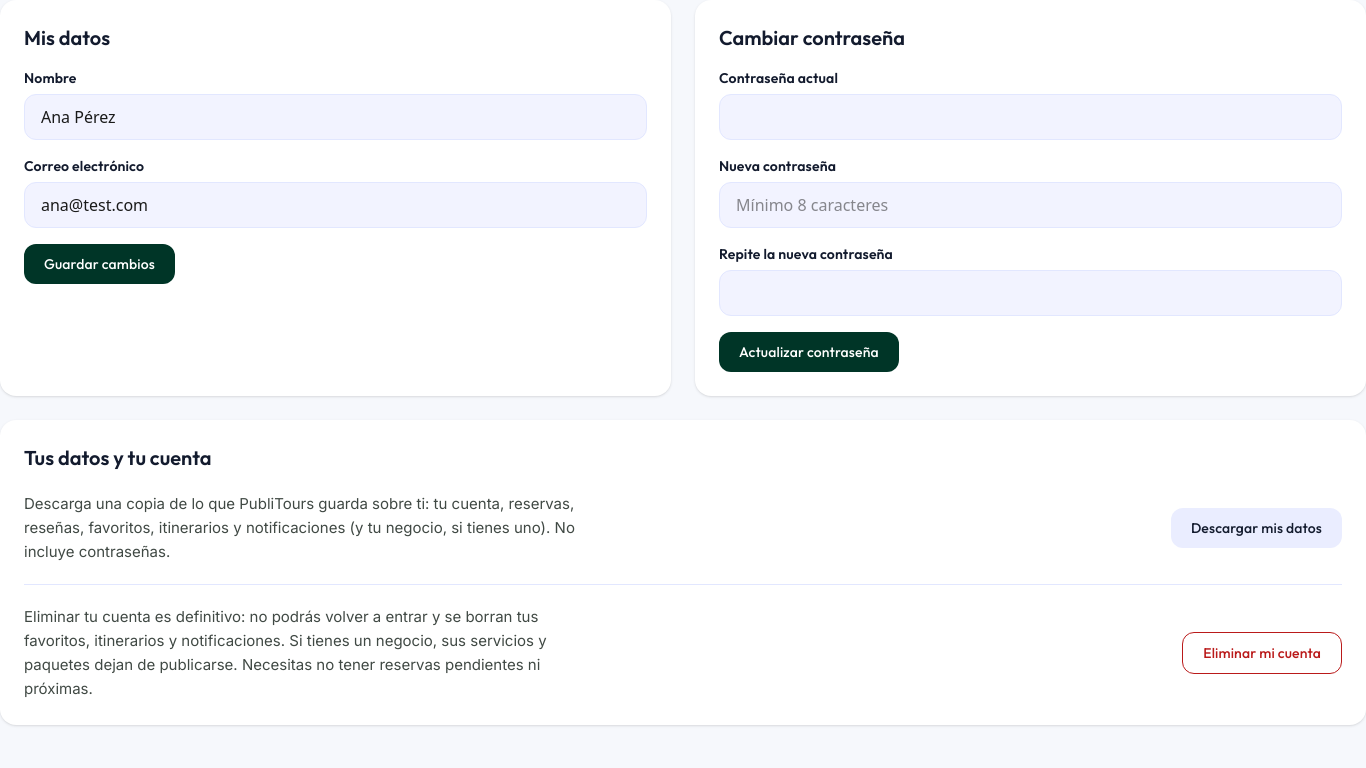
Test: MisDatos › muestra el error del servidor al cambiar el correo (p. ej. duplicado)
Click the button "Guardar cambios": point(99, 264) [24, 244, 175, 284]
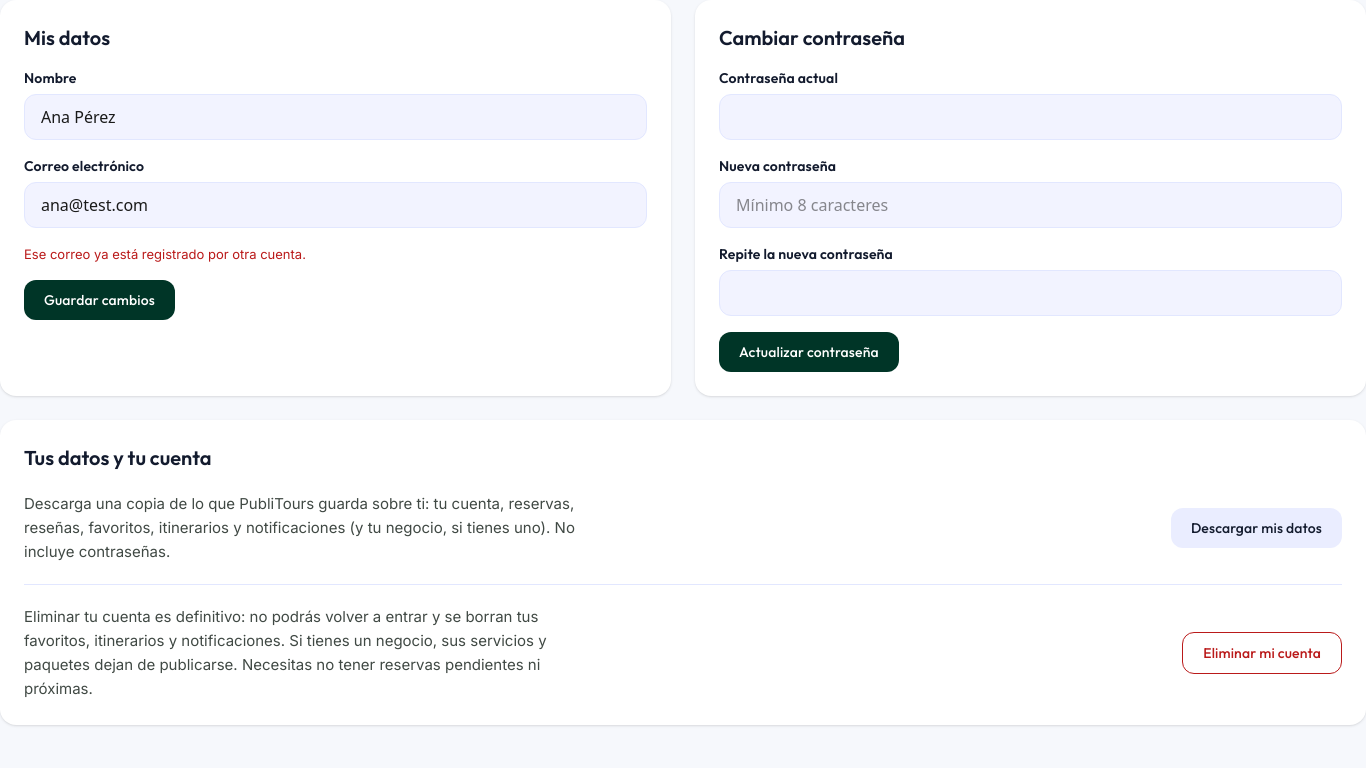
Now the text "Ese correo ya está registrado por otra cuenta." is shown, box [24, 246, 306, 262]
